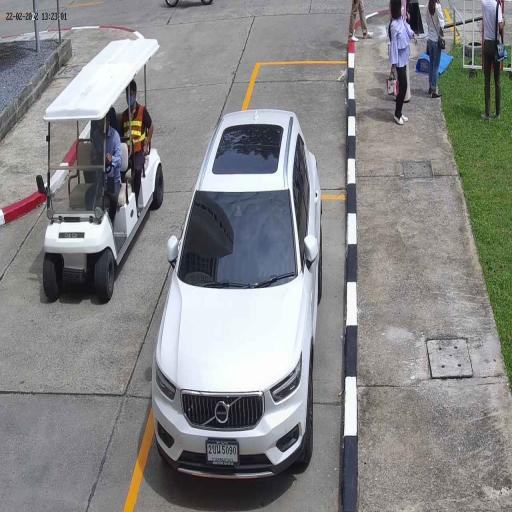car: (151, 108, 324, 482), (42, 40, 164, 304)
